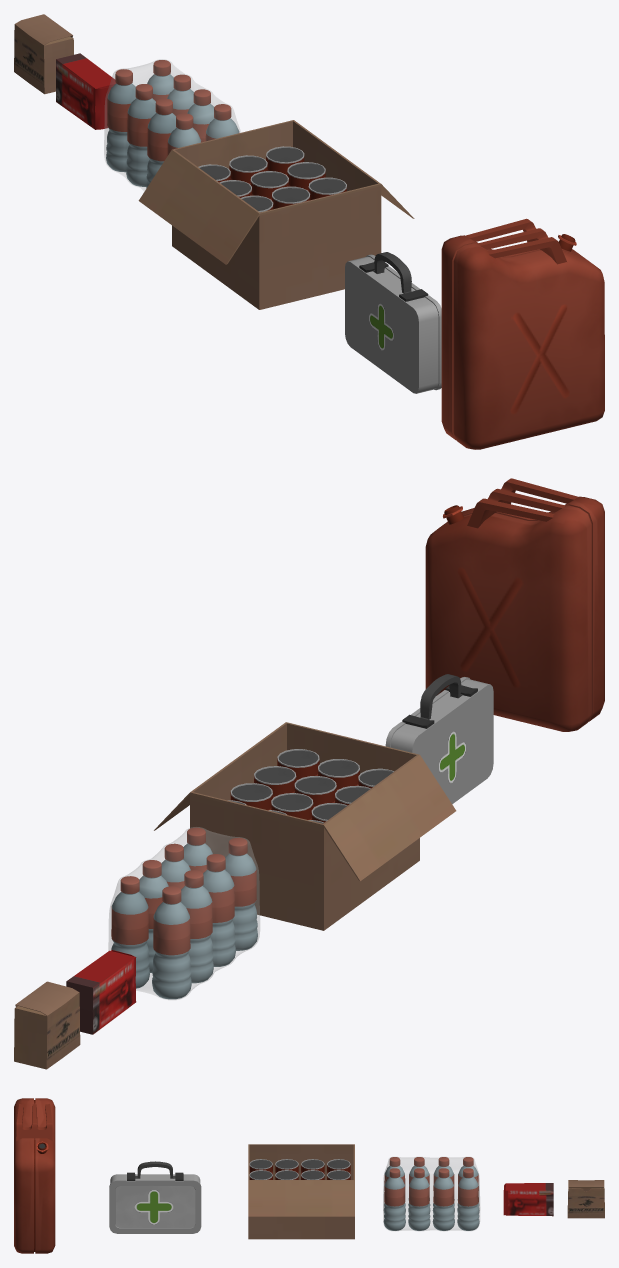
Rendered from props (3).fbx.
3 renders of one model, top to bottom at view 1: azimuth 30°, elevation 25°; view 2: azimuth 150°, elevation 25°; view 3: azimuth 270°, elevation 25°, orthographic. The views are drawn at different scales.
Visible parts, largest first — view 1: gas can, korobka dla konserv, water package, med kit, water bottle, konservi, pack of ammo shotgun, pack of ammo revolver; view 2: gas can, korobka dla konserv, water package, water bottle, med kit, konservi, pack of ammo shotgun, pack of ammo revolver; view 3: korobka dla konserv, water package, gas can, water bottle, med kit, konservi, pack of ammo revolver, pack of ammo shotgun.
Part boxes in pixels (x1,y1,x2,y2): gas can: (441,218,604,449); korobka dla konserv: (138,120,414,309); water package: (104,59,240,191); med kit: (345,252,441,393); water bottle: (106,60,239,188); konservi: (198,146,346,212); pack of ammo shotgun: (14,14,73,94); pack of ammo revolver: (56,53,115,129); gas can: (425,478,604,731); korobka dla konserv: (154,722,456,930); water package: (108,827,259,999); water bottle: (111,827,257,999); med kit: (385,674,493,804); konservi: (228,749,393,823); pack of ammo shotgun: (14,981,80,1069); pack of ammo revolver: (66,950,136,1034); korobka dla konserv: (248,1144,354,1239); water package: (383,1157,480,1231); gas can: (14,1098,55,1253); water bottle: (383,1157,479,1230); med kit: (109,1161,201,1233); konservi: (249,1159,350,1179); pack of ammo revolver: (503,1183,553,1216); pack of ammo shotgun: (567,1180,604,1218).
Bounding box in the file's own units: 57.85 × 58.29 × 253.
2 materials, 1 textured.
